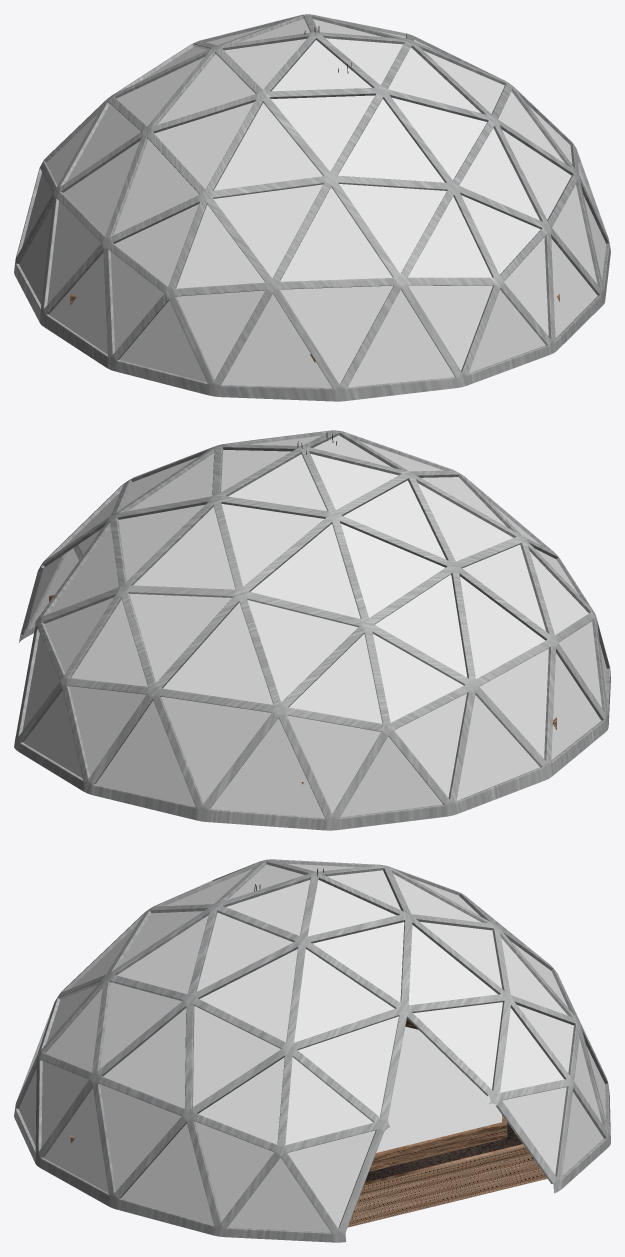
Rendered from greenhouse.fbx.
3 renders of one model, top to bottom at view 1: azimuth 30°, elevation 25°; view 2: azimuth 150°, elevation 25°; view 3: azimuth 270°, elevation 25°, orthographic. The views are drawn at different scales.
Visible parts, largest first — view 1: Dome; view 2: Dome; view 3: Dome, polySurface10, polySurface9, polySurface6, polySurface7, polySurface8, polySurface4, polySurface5, polySurface3.
Part boxes in pixels (x1,y1,x2,y2): Dome: (14, 14, 610, 401); Dome: (14, 430, 610, 830); Dome: (14, 859, 610, 1242); polySurface10: (376, 1026, 501, 1152); polySurface9: (70, 1135, 529, 1195); polySurface6: (347, 1170, 547, 1227); polySurface7: (351, 1162, 541, 1216); polySurface8: (356, 1154, 535, 1205); polySurface4: (371, 1115, 507, 1165); polySurface5: (365, 1122, 522, 1182); polySurface3: (369, 1019, 507, 1171).
Bounding box in the file's own units: 22 × 10.16 × 21.98.
15 materials, 14 textured.
